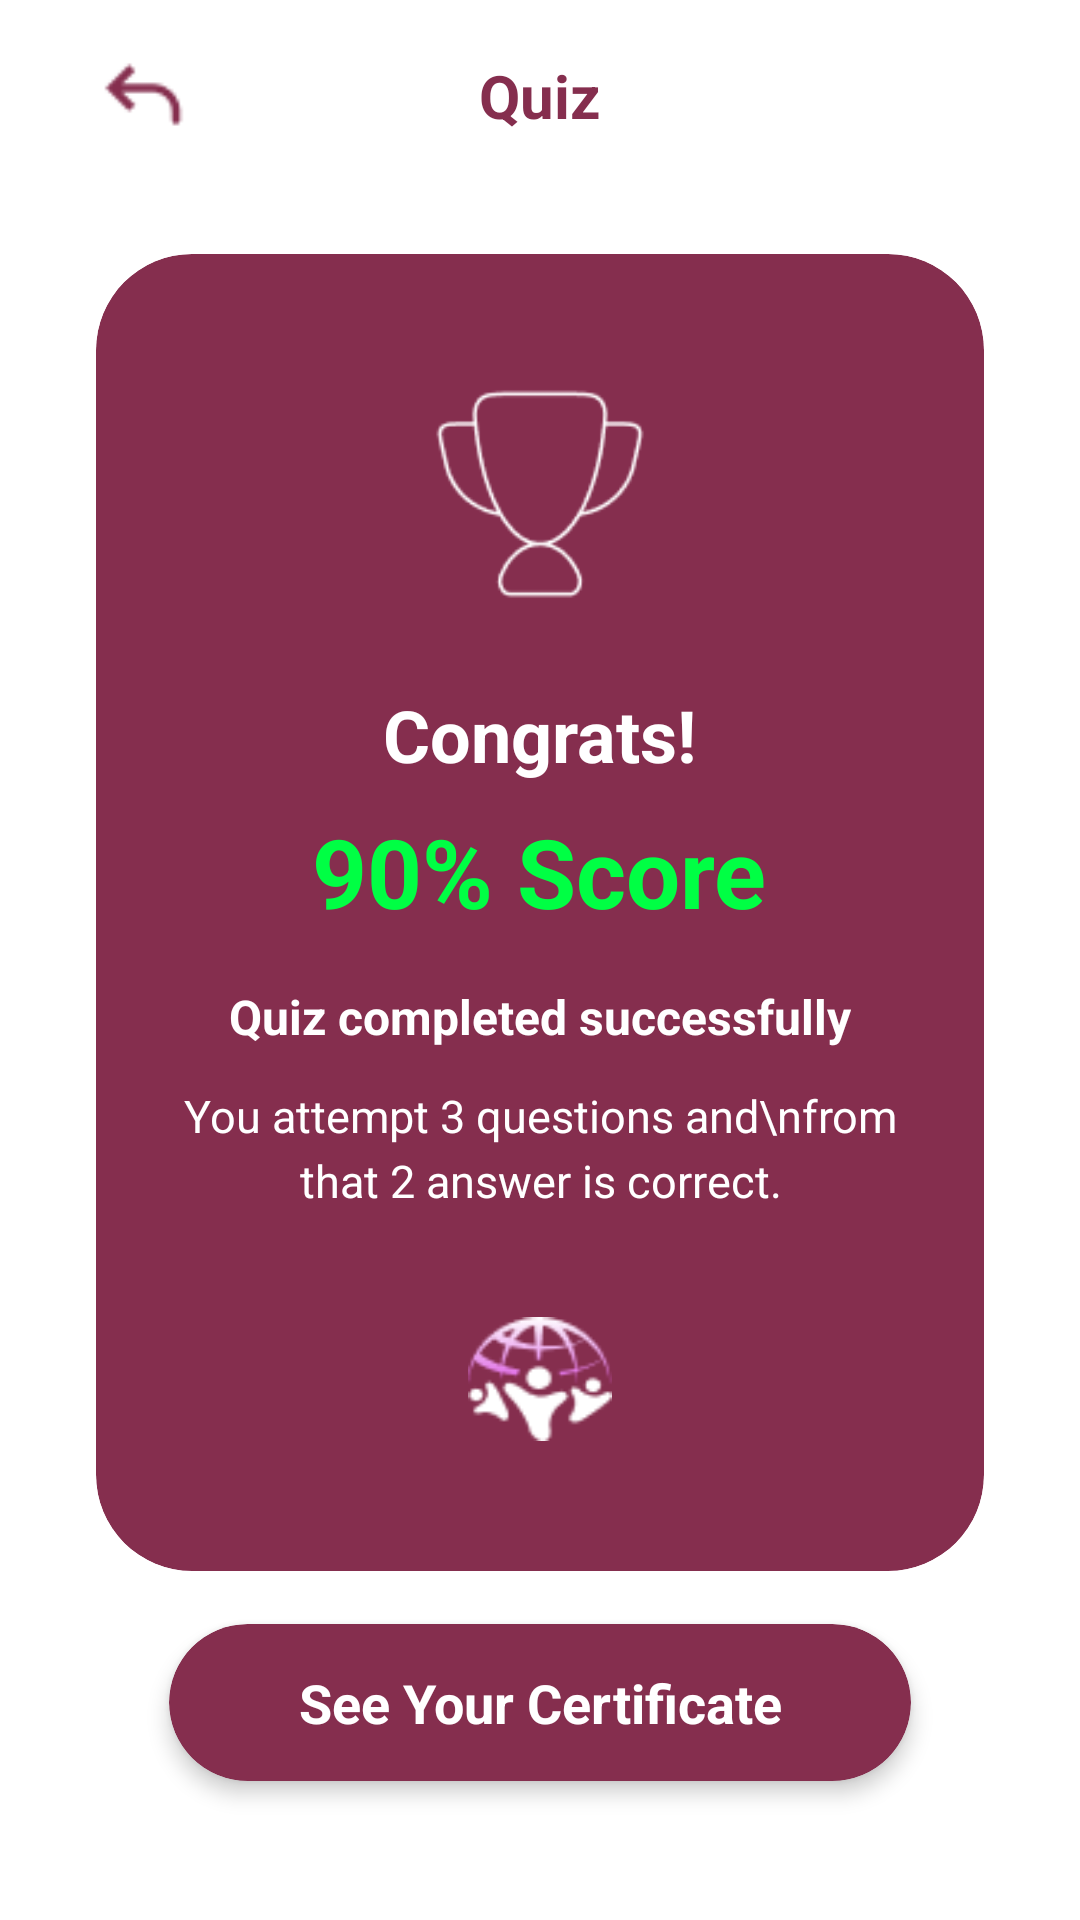

Where to tap for icons on this 1080*1920 app screen, as point (x, y):
back: point (144, 94)
piala: point (540, 494)
